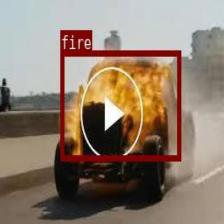fire: (60, 50, 180, 160)
